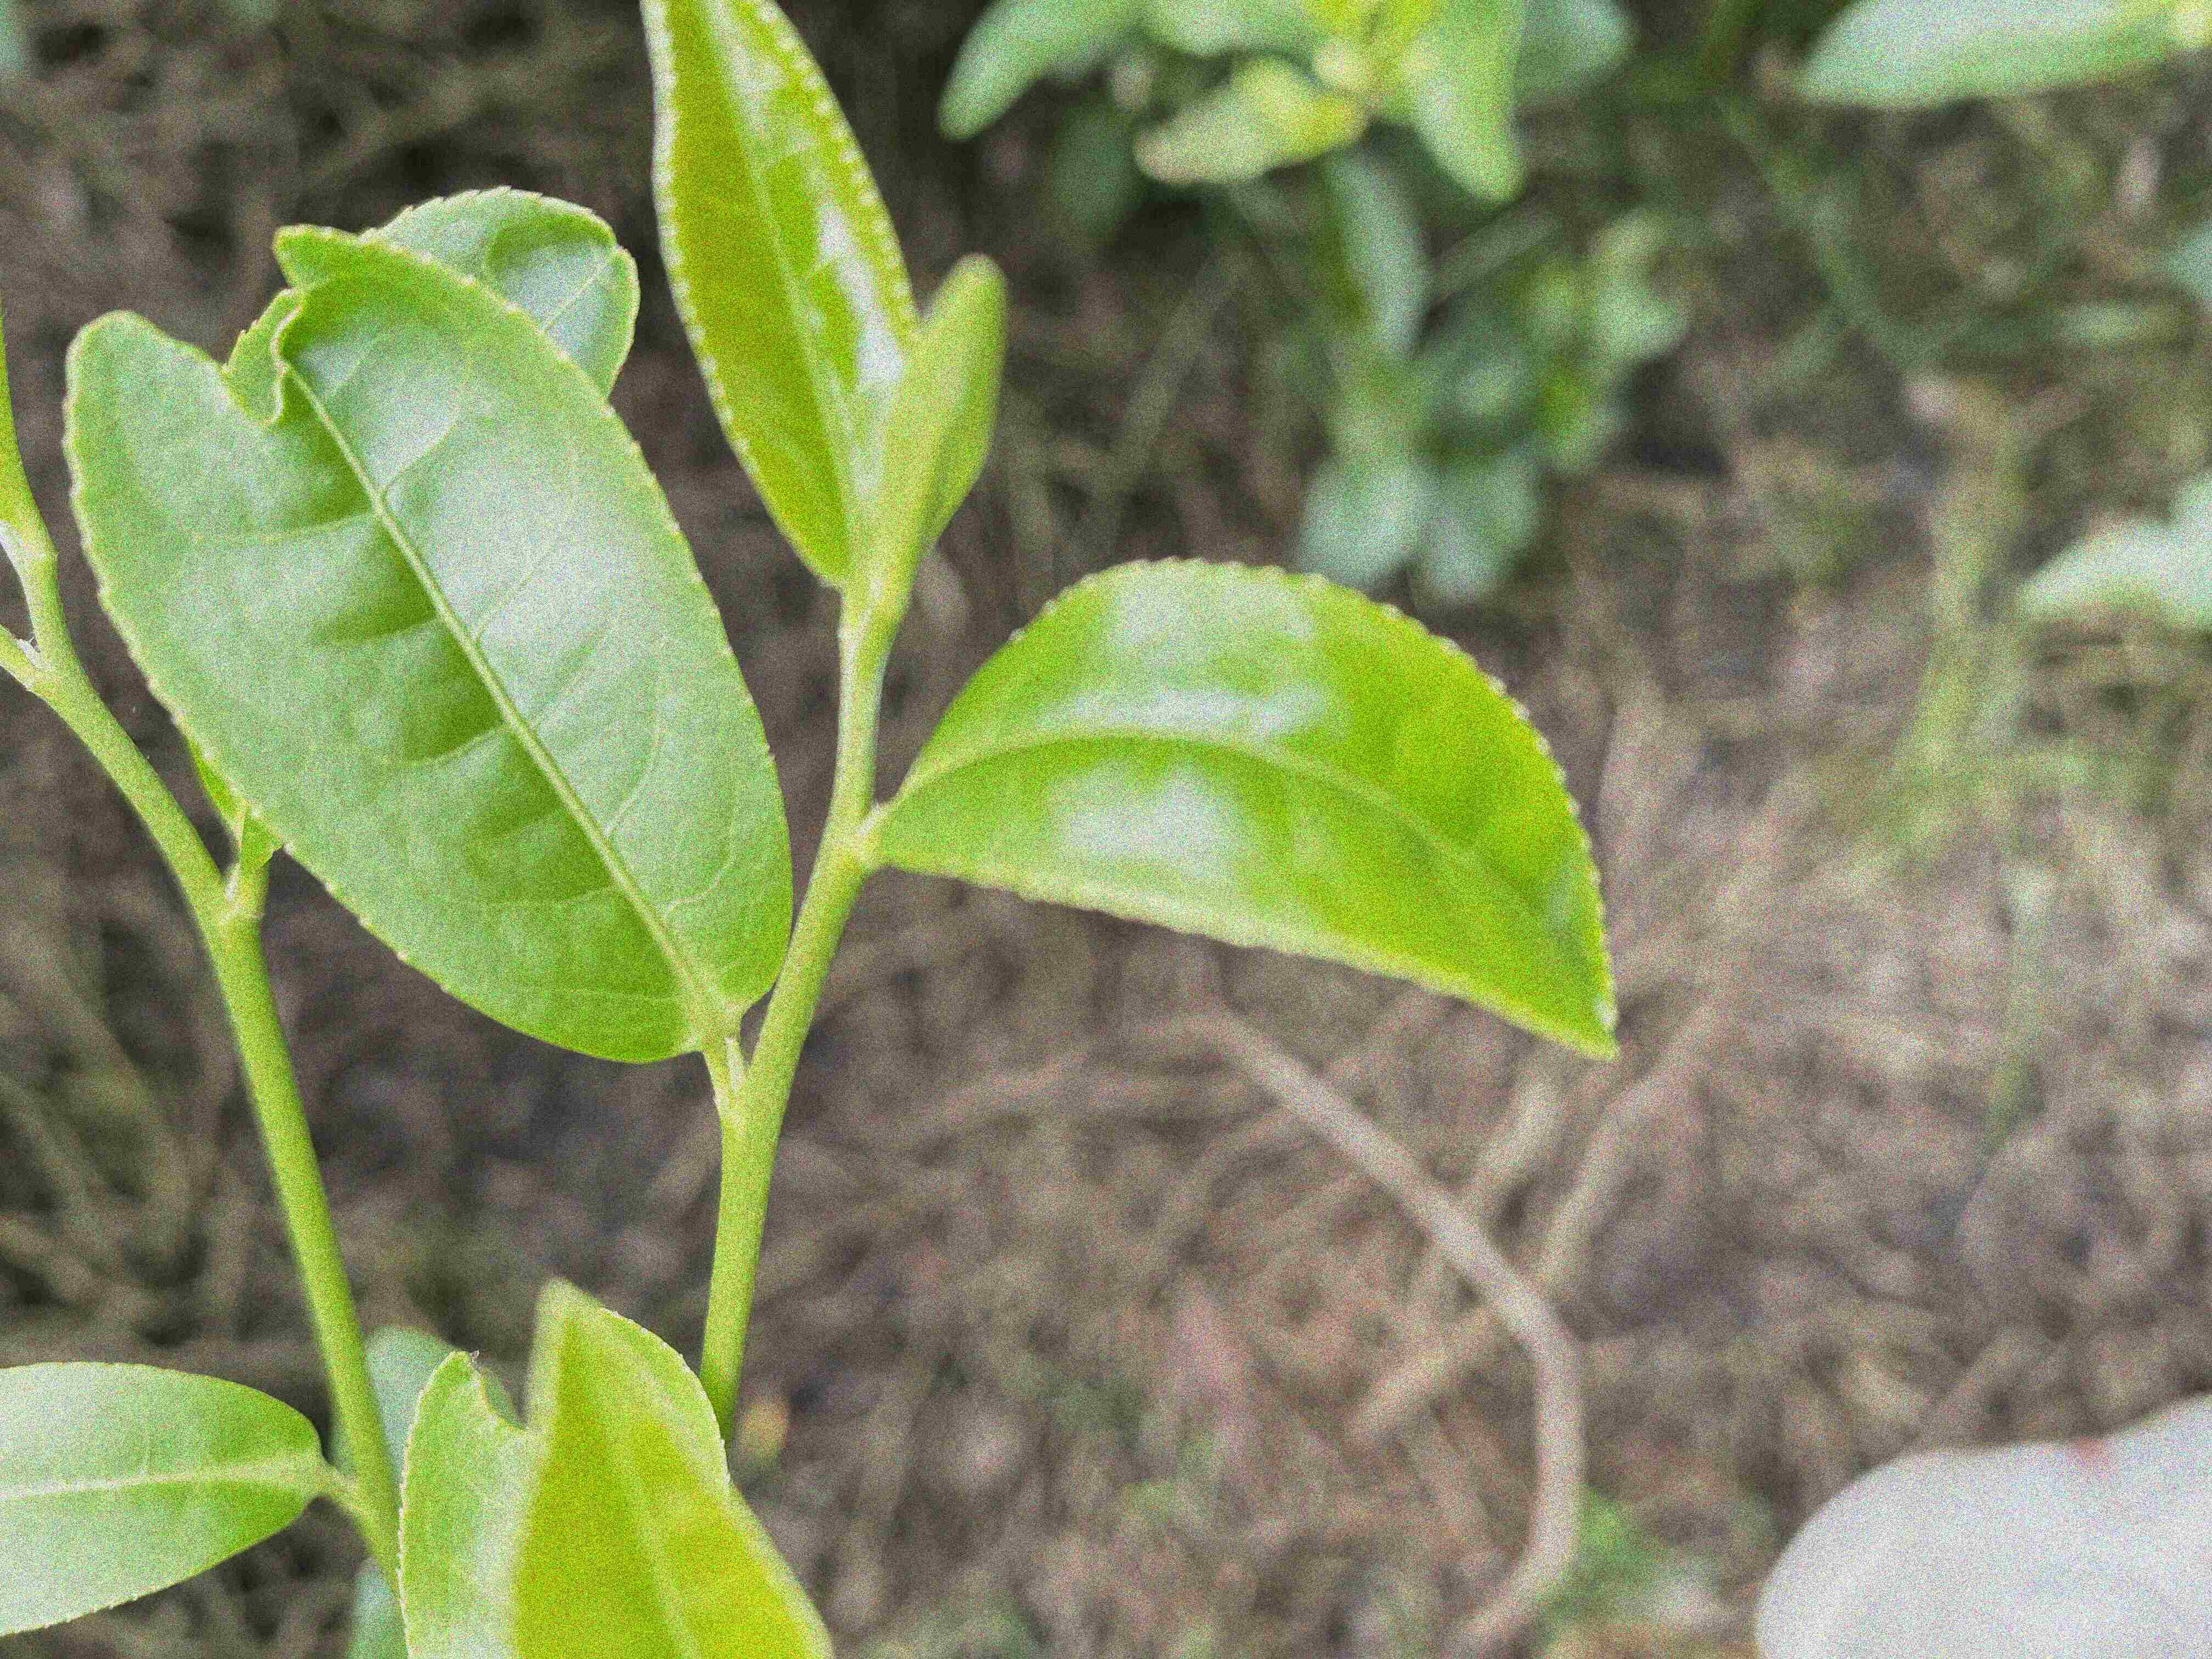healthy: (64, 274, 794, 1066), (888, 552, 1622, 1060), (637, 0, 923, 582)
